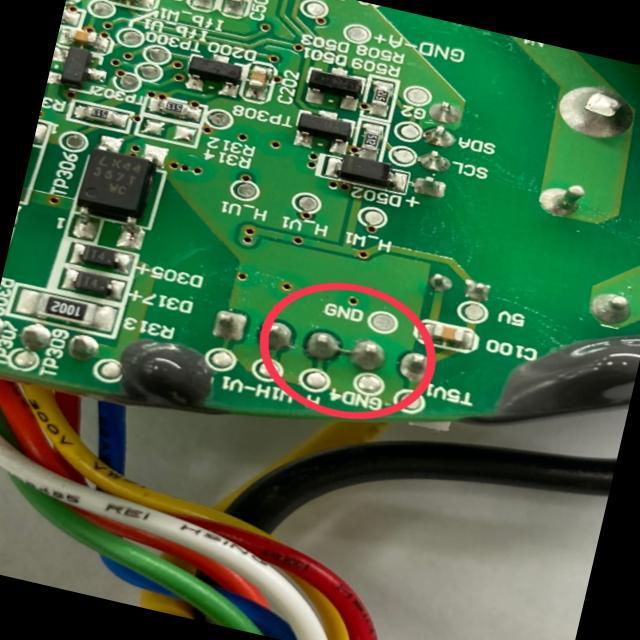Short_circuit: (305, 331, 385, 371)
